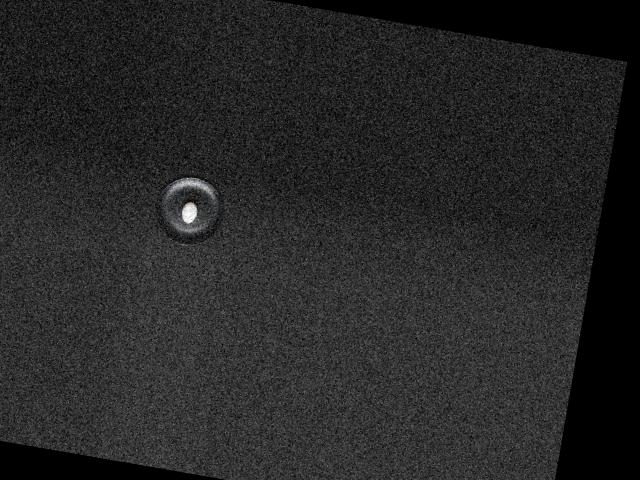egg: (180, 200, 199, 224)
